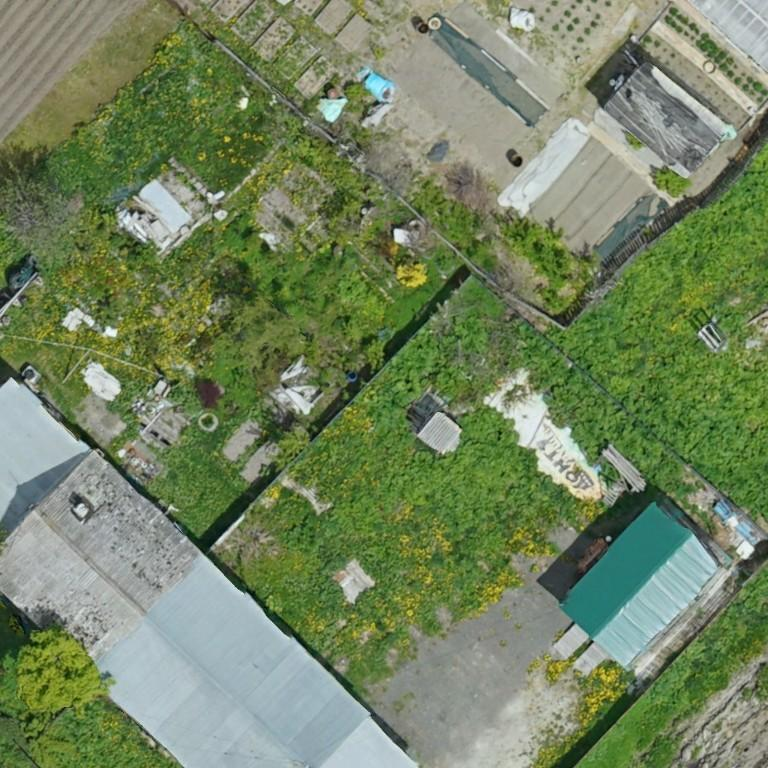hogweed: (544, 142, 767, 525), (367, 328, 569, 536), (516, 318, 677, 493), (647, 566, 767, 702), (73, 706, 170, 767), (285, 515, 348, 608), (442, 311, 488, 350)
